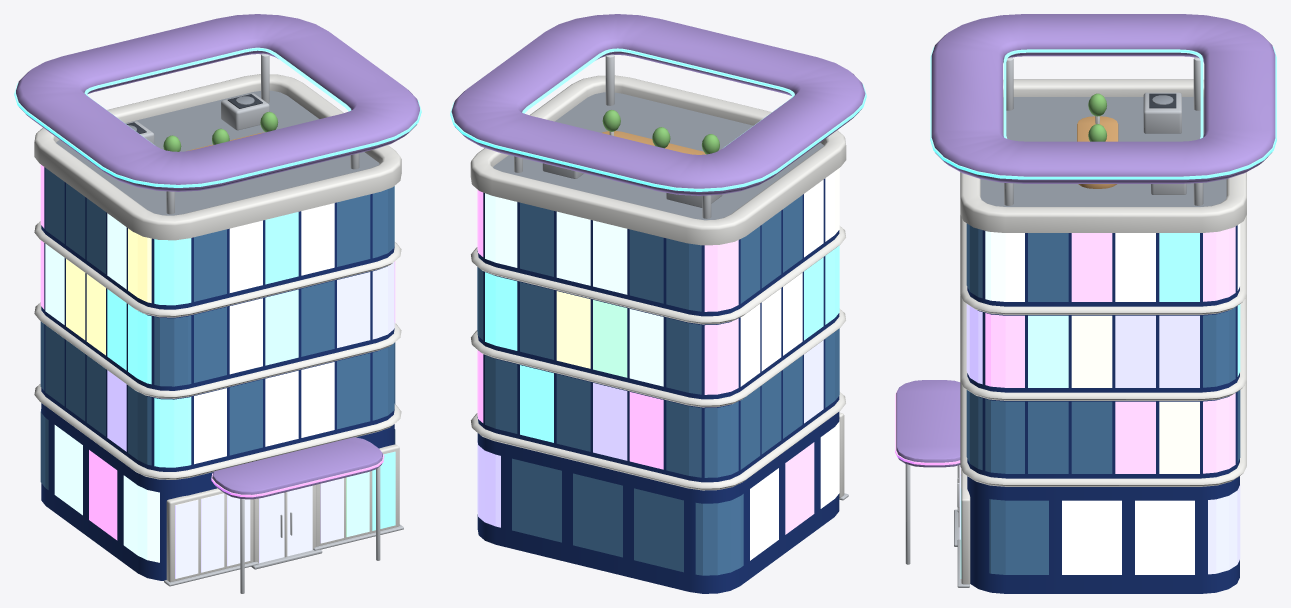
The model's file is predio_vidro_marquise_lilas.glb.
3 views of the same model, side by side, from view 1: azimuth 30°, elevation 25°; view 2: azimuth 150°, elevation 25°; view 3: azimuth 270°, elevation 25° (orthographic). The views are drawn at different scales.
Visible parts, largest first — view 1: predio_vidro_marquise_lilas; view 2: predio_vidro_marquise_lilas; view 3: predio_vidro_marquise_lilas.
Part boxes in pixels (<box>): predio_vidro_marquise_lilas: <box>14,14,421,593</box>; predio_vidro_marquise_lilas: <box>450,14,866,593</box>; predio_vidro_marquise_lilas: <box>895,14,1276,593</box>.
Size of the model in its own units: 12.7 by 16.36 by 12.89.
11 materials, 1 textured.
